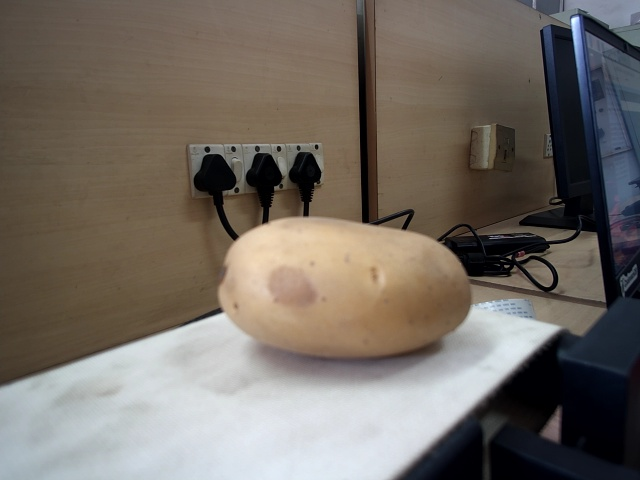Potato: (219, 217, 474, 362)
